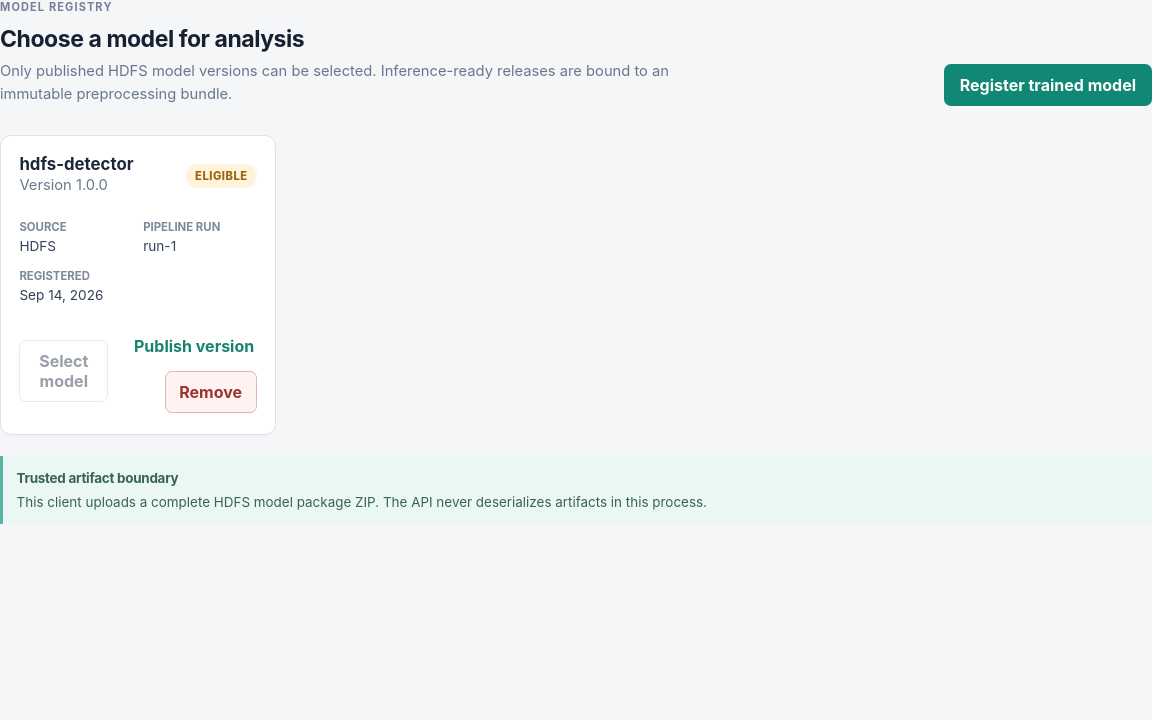
Test: Remove deny copy › shows a model Remove 409 alert and does not render success status
Click the button "Remove" at coordinates (211, 392), box [165,371,257,413]
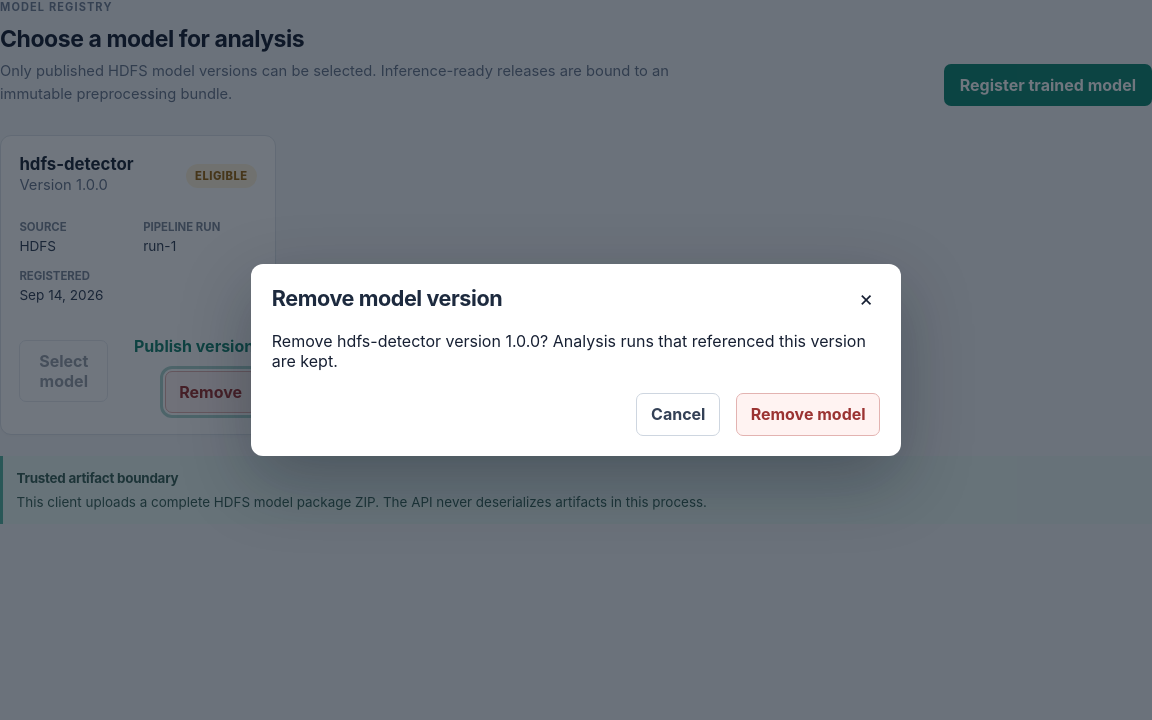
Click the button "Remove model" at coordinates (808, 414), box [736,393,880,436]
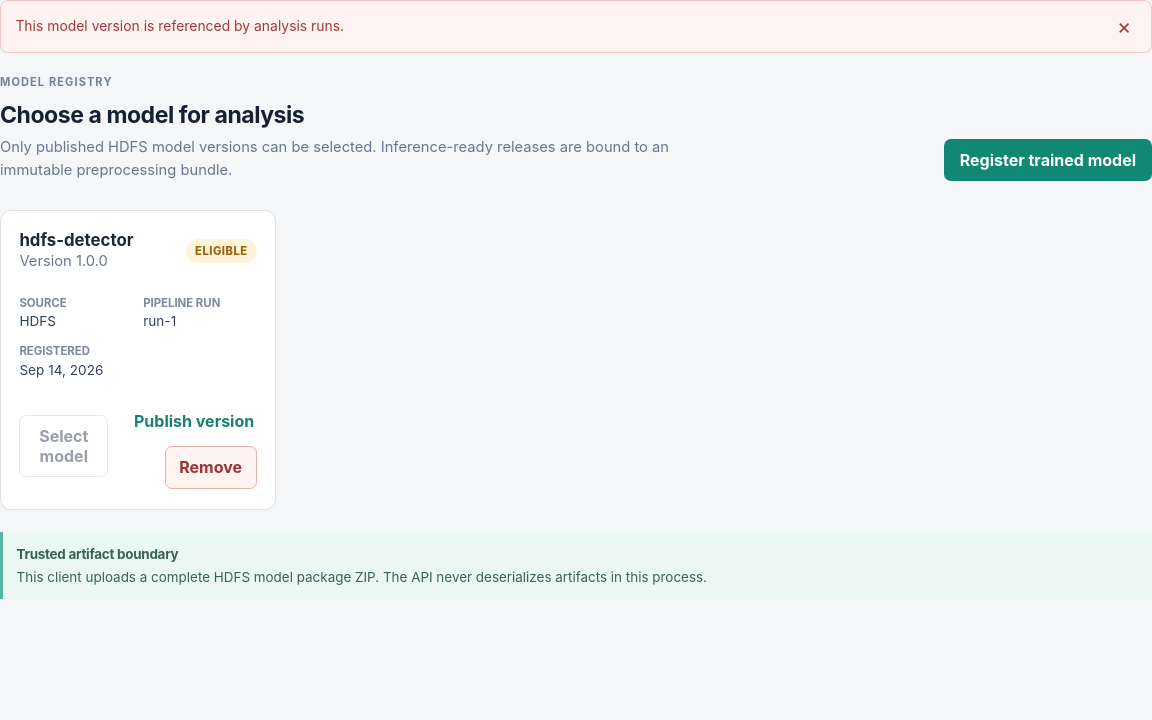
Expected: the button "Remove" is shown, [165,446,257,489]
Expected: the message shows "This model version is referenced by analysis runs.", [15,18,344,34]
